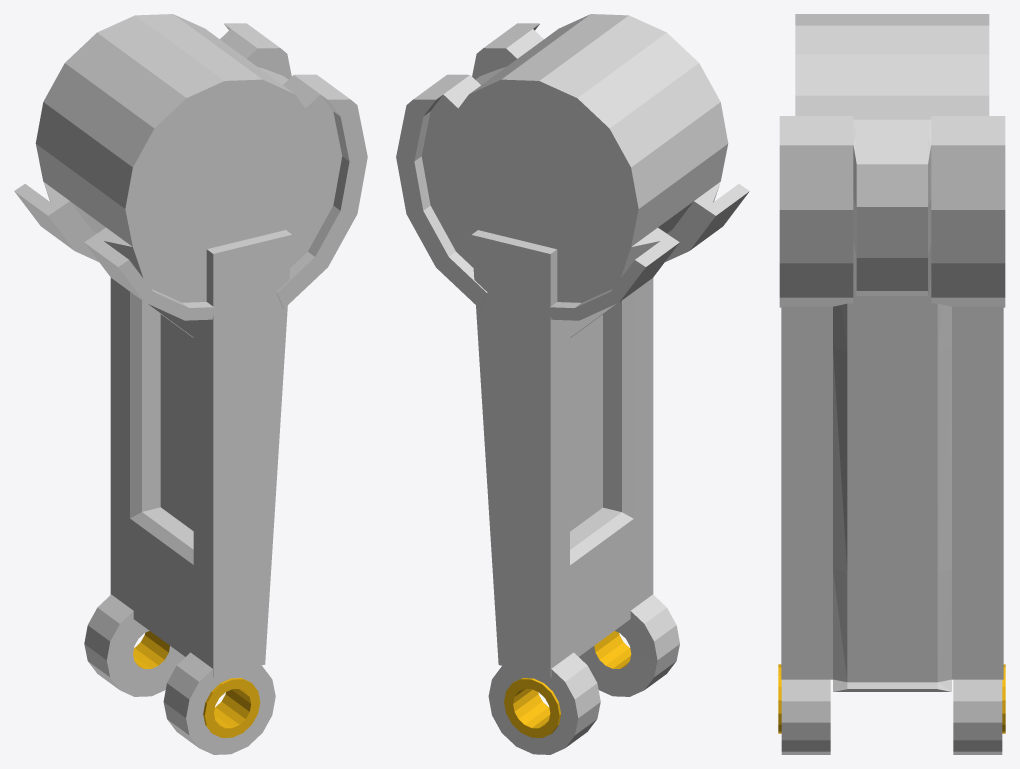
File: rg2_outer_knuckle_low_poly.dae
The picture shows the model from 3 angles, left to right: view 1: azimuth 30°, elevation 25°; view 2: azimuth 150°, elevation 25°; view 3: azimuth 270°, elevation 25°; orthographic projection. The views are drawn at different scales.
Visible parts, largest first — view 1: Cylinder; view 2: Cylinder; view 3: Cylinder.
Boxes of the visible parts, box(x1,y1,x2,y2) form: Cylinder: box(14, 14, 367, 754); Cylinder: box(396, 14, 749, 754); Cylinder: box(778, 14, 1005, 754).
Bounding box in the file's own units: 0.0277 × 0.0202 × 0.071.
